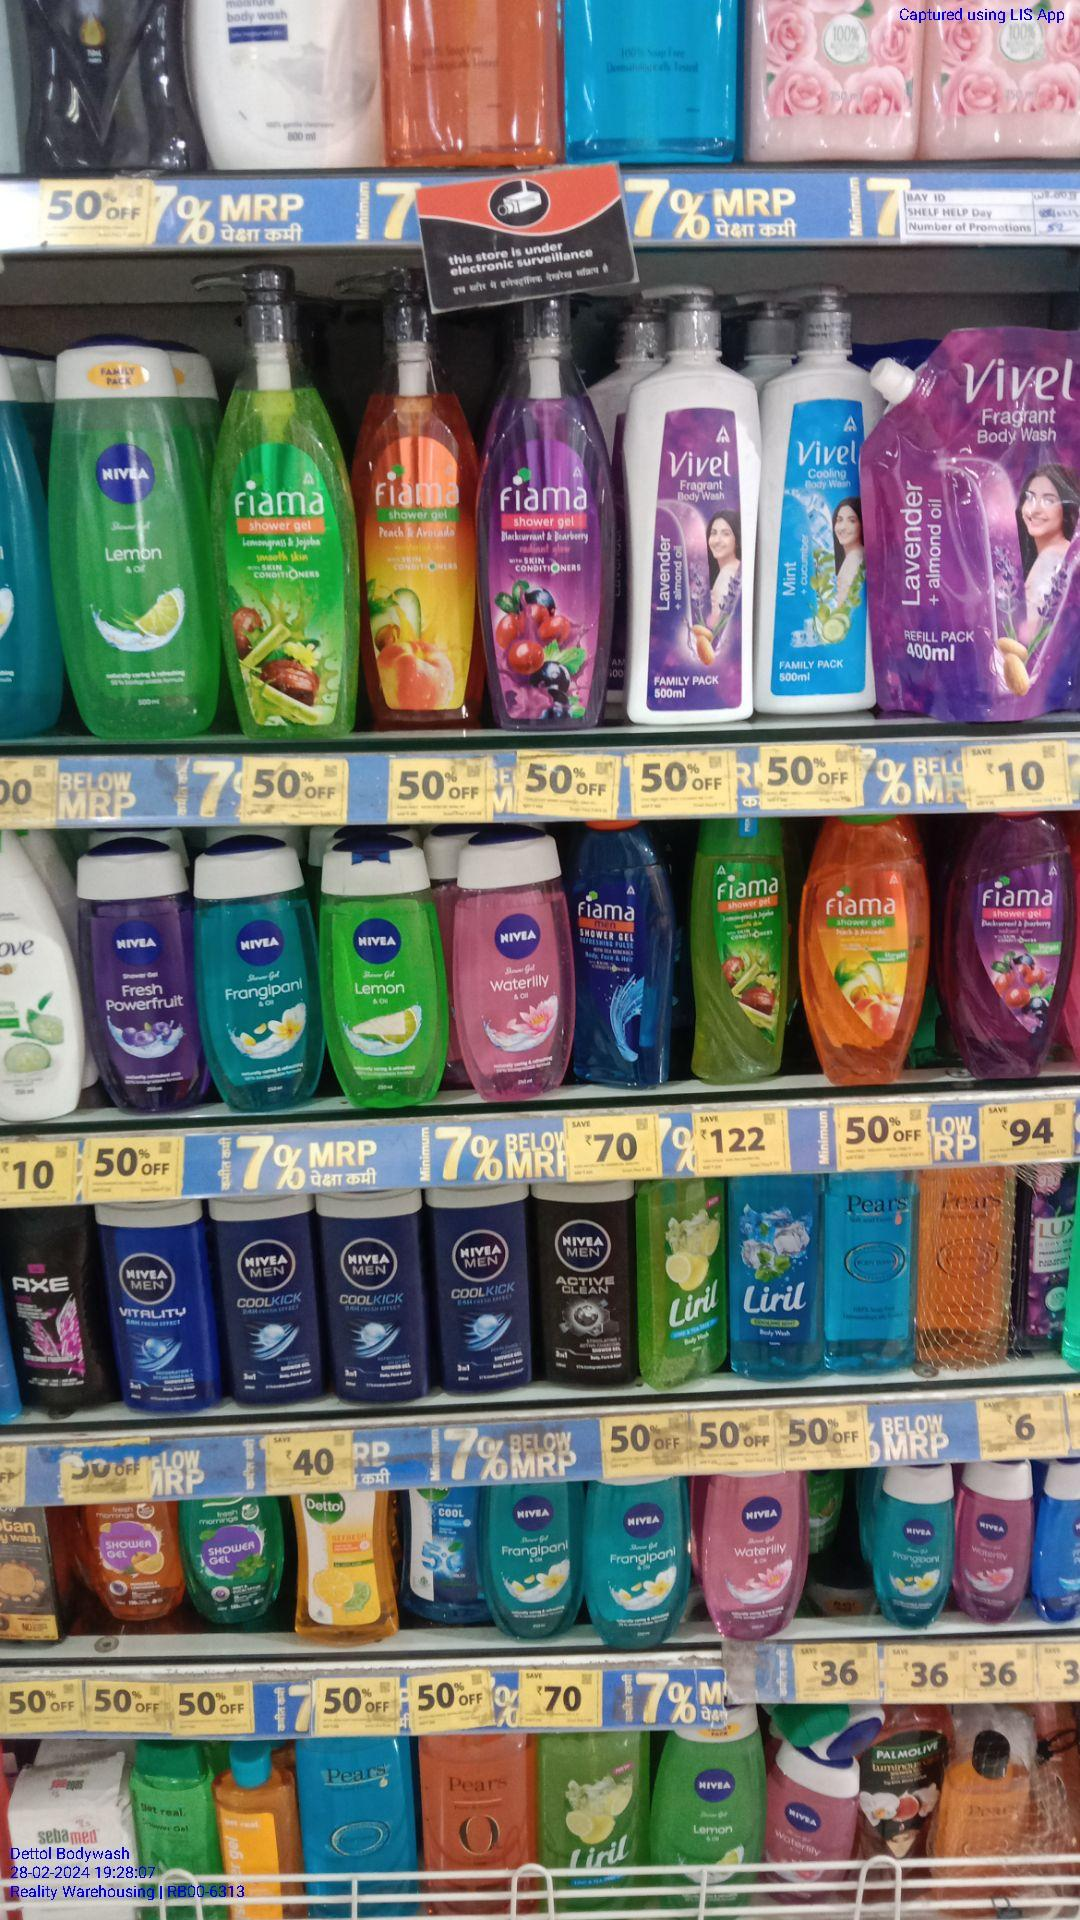Dettol_Bodywash_Cool: (405, 1489, 487, 1635)
Dettol_Bodywash_Refresh: (299, 1489, 396, 1655)
Fiama_Shower_Gel_Lemongrass_and_Jojoba_250ML: (696, 811, 790, 1080)
Fiama_Shower_Gel_Peach_and_Avocado_250ML: (807, 812, 918, 1092)
Liril_Cooling_Mint_Body_Wash_250ML: (733, 1174, 819, 1383)
Liril_Lime_and_Tea_Tree_Oil_Body_Wash_250ML: (642, 1182, 725, 1389)
Nivea_Shower_Gel_Frangipani_and_Oil_250ML: (202, 831, 313, 1114), (585, 1480, 687, 1651), (489, 1480, 582, 1642), (876, 1469, 953, 1629)
Nivea_Shower_Gel_Fresh_Powerfruit_250ML: (82, 836, 198, 1114)
Nivea_Shower_Gel_Lemon_and_Oil_250ML: (50, 328, 220, 741), (320, 831, 447, 1114), (654, 1714, 761, 1917)
Nivea_Shower_Gel_Waterlily_and_Oil_250ML: (455, 827, 575, 1101), (703, 1466, 808, 1642), (959, 1460, 1030, 1623), (770, 1755, 841, 1908)
